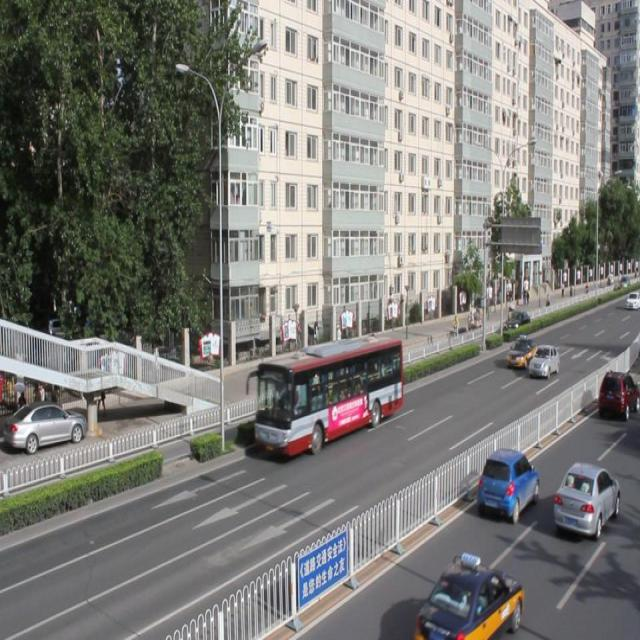car: (412, 554, 520, 640), (552, 460, 618, 536), (476, 448, 536, 518), (597, 368, 640, 419), (527, 343, 559, 375), (504, 334, 536, 366)
van: (255, 336, 401, 456)
